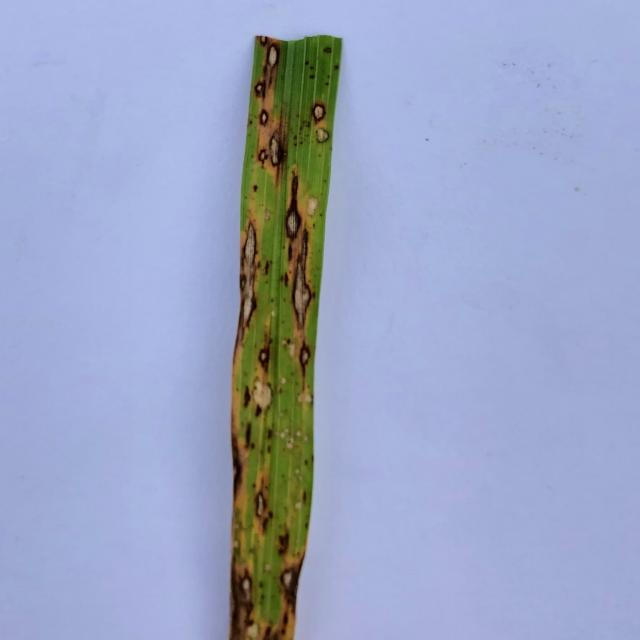leaf blast: (290, 228, 317, 329), (240, 223, 258, 345), (282, 177, 303, 240), (233, 433, 245, 502), (297, 338, 312, 386), (242, 622, 282, 640), (238, 570, 255, 603), (268, 134, 283, 166), (265, 43, 280, 72), (279, 565, 296, 590), (311, 100, 328, 124), (252, 493, 267, 519), (314, 126, 331, 146), (257, 108, 271, 126), (258, 346, 269, 368), (257, 148, 269, 165), (253, 82, 264, 96), (258, 35, 268, 47)
